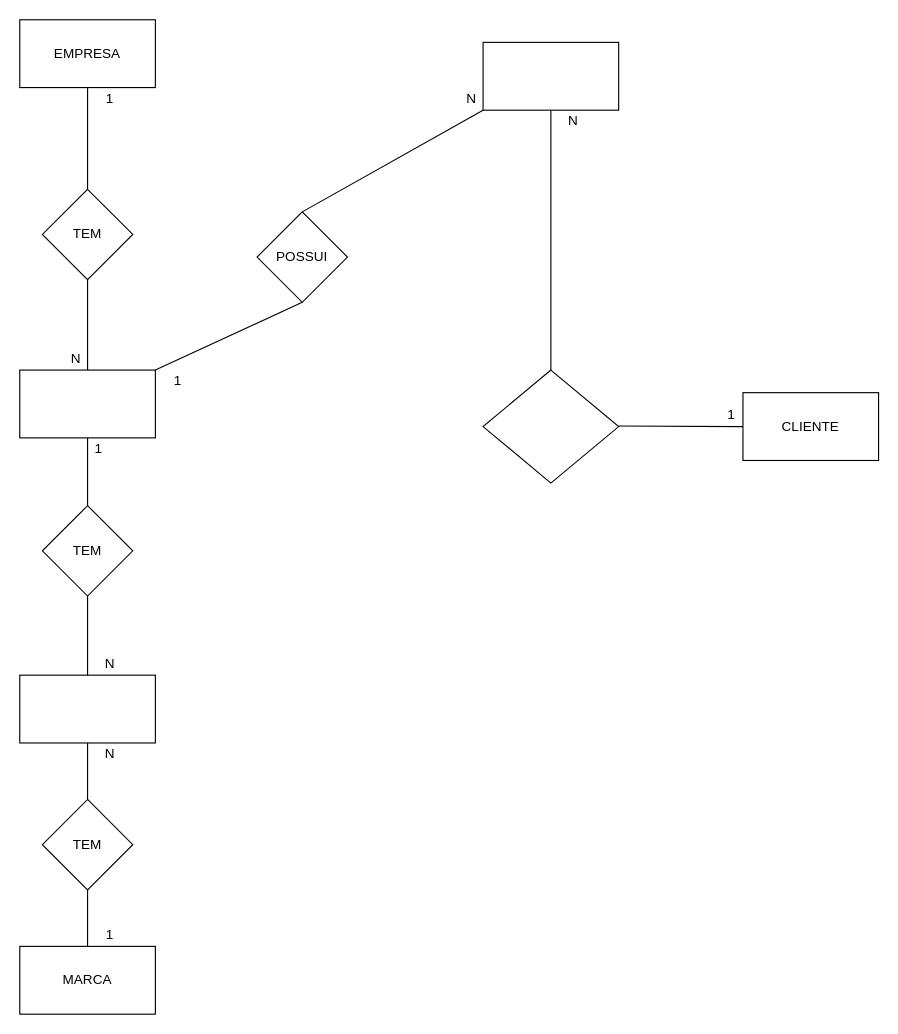
Image size: 898x1034. Some labels were removed from this diagram. Here are the shapes that lost their labels. From the top down, the centre of each, then its label:
At point (550, 75): "ALUGUEL".
At point (87, 403): "VEÍCULO".
At point (550, 426): "FAZ".
At point (87, 708): "MODELO".
